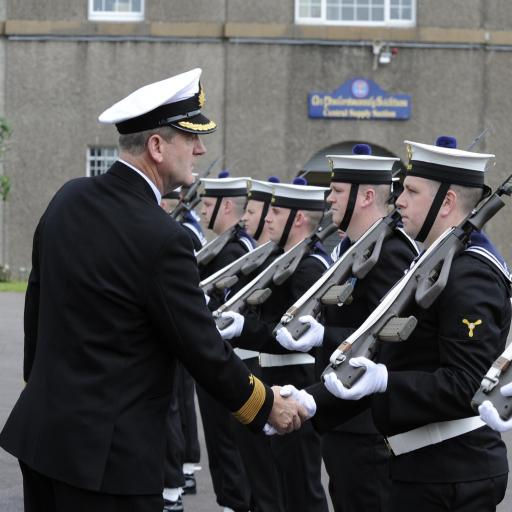Person: (22, 59, 228, 505), (311, 108, 512, 477), (264, 129, 423, 441), (232, 152, 330, 418)
gloves: (324, 342, 390, 397), (273, 302, 323, 354), (205, 294, 252, 347)
no_helmet: (88, 72, 218, 155), (397, 140, 499, 220), (312, 135, 408, 200), (264, 168, 331, 230), (242, 172, 299, 222)
none: (29, 174, 204, 481), (371, 231, 511, 457), (246, 240, 310, 381), (328, 238, 404, 317)
